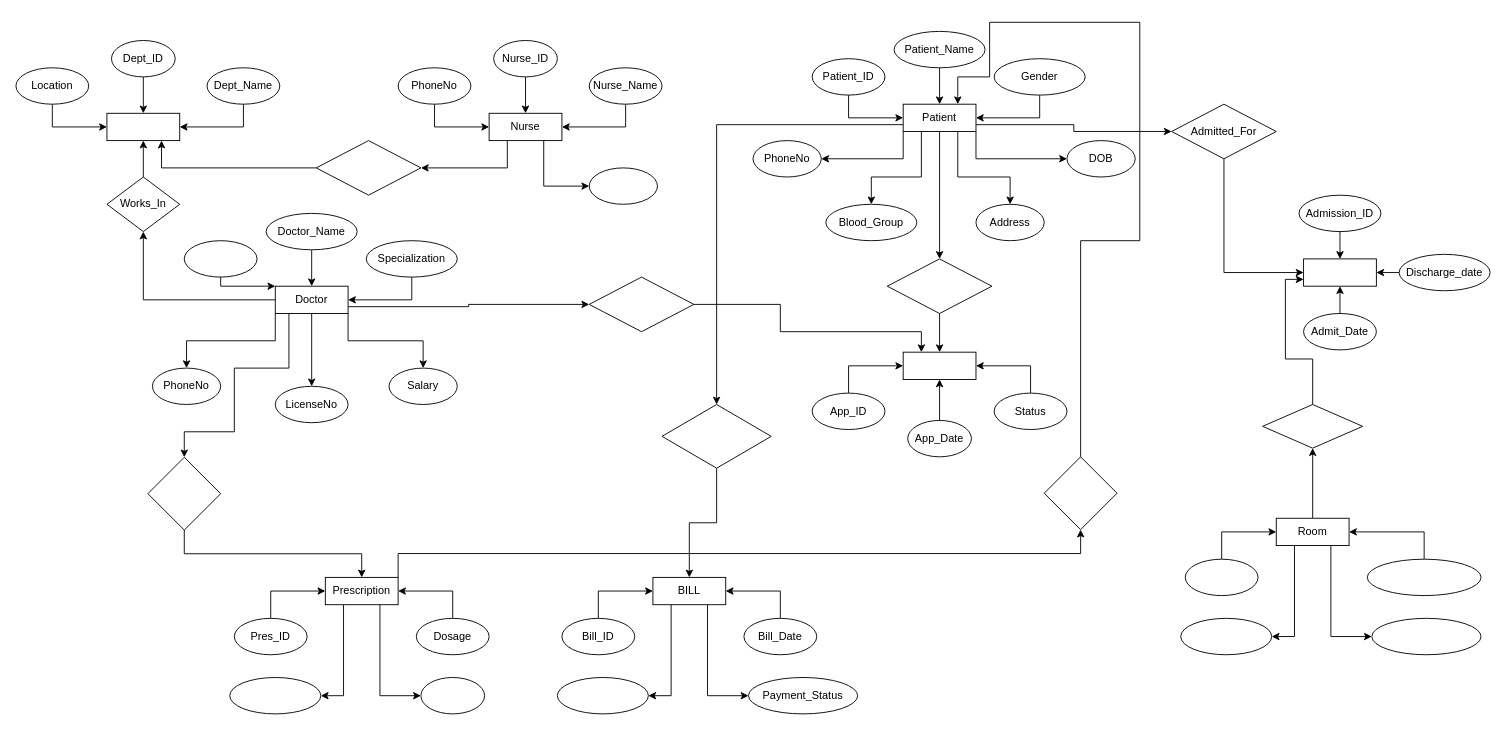
The diagram is 1506 pixels wide and 730 high, and some of its shapes have lost their labels. The centre of each missing label's shape, as x and y in pixels:
"Admission" belongs at point (1339, 272).
"Allocated_TO" belongs at point (1312, 426).
"Appointment" belongs at point (939, 365).
"Assigned_to" belongs at point (368, 167).
"Attends" belongs at point (641, 304).
"Availability_Status" belongs at point (1423, 577).
"Books" belongs at point (939, 285).
"Charges_Per_Day" belongs at point (1426, 636).
"Department" belongs at point (143, 126).
"Doctor_ID" belongs at point (220, 258).
"Duration" belongs at point (452, 695).
"Generated_For" belongs at point (716, 436).
"Medicine_Name" belongs at point (275, 695).
"Prescribes" belongs at point (184, 493).
"Recieves" belongs at point (1080, 493).
"Room_No" belongs at point (1221, 577).
"Room_Type" belongs at point (1226, 636).
"Shift" belongs at point (622, 185).
"Total_Amount" belongs at point (602, 695).
